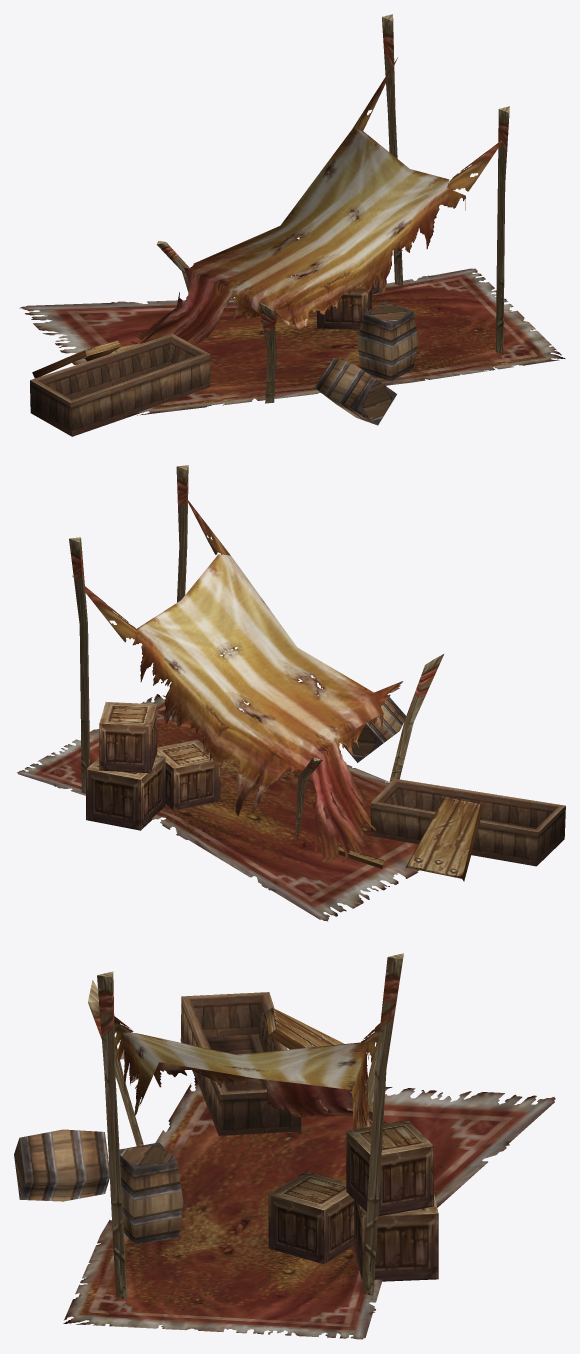
File: Gobi_Stall01.FBX
3 views of the same model, one above another, from view 1: azimuth 30°, elevation 25°; view 2: azimuth 150°, elevation 25°; view 3: azimuth 270°, elevation 25° (orthographic). The views are drawn at different scales.
Visible parts, largest first — view 1: Gobi_Stall01; view 2: Gobi_Stall01; view 3: Gobi_Stall01.
Boxes of the visible parts, x1,y1,x2,y2 form: Gobi_Stall01: [19, 14, 565, 436]; Gobi_Stall01: [17, 465, 565, 921]; Gobi_Stall01: [14, 953, 555, 1339].
Size of the model in its own units: 1176 by 628 by 897.
